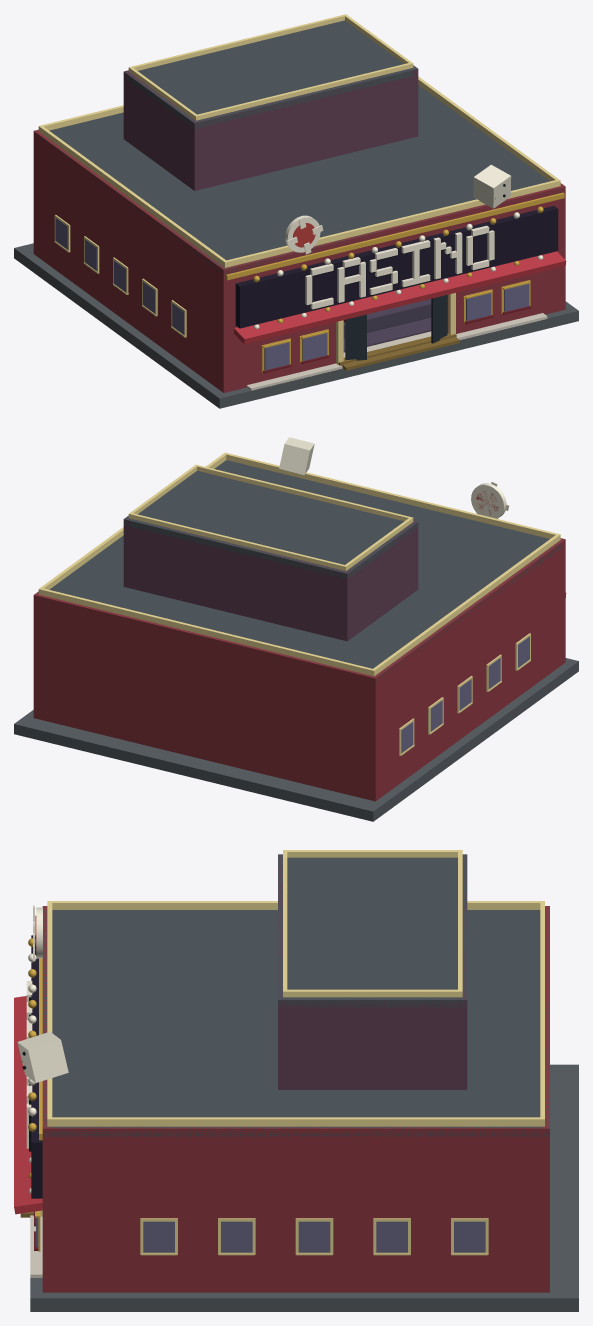
File: casino-building.glb
3 renders of one model, top to bottom at view 1: azimuth 30°, elevation 25°; view 2: azimuth 150°, elevation 25°; view 3: azimuth 270°, elevation 25°, orthographic. The views are drawn at different scales.
Visible parts, largest first — view 1: casino_cutaway_roof, casino_exterior_detail, casino_hull_wall, casino_cutaway_upper, casino_foundation, casino_interior; view 2: casino_hull_wall, casino_cutaway_roof, casino_cutaway_upper, casino_foundation, casino_exterior_detail; view 3: casino_cutaway_roof, casino_hull_wall, casino_foundation, casino_cutaway_upper, casino_exterior_detail.
Part boxes in pixels (left/top/right/bottom): casino_cutaway_roof: left=38, top=14, right=565, bottom=275; casino_exterior_detail: left=54, top=164, right=566, bottom=373; casino_hull_wall: left=33, top=129, right=565, bottom=392; casino_cutaway_upper: left=123, top=25, right=418, bottom=190; casino_foundation: left=14, top=243, right=578, bottom=408; casino_interior: left=343, top=299, right=431, bottom=352; casino_hull_wall: left=33, top=538, right=565, bottom=801; casino_cutaway_roof: left=38, top=452, right=562, bottom=681; casino_cutaway_upper: left=123, top=471, right=418, bottom=641; casino_foundation: left=14, top=658, right=578, bottom=821; casino_exterior_detail: left=279, top=437, right=566, bottom=755; casino_cutaway_roof: left=42, top=850, right=549, bottom=1136; casino_hull_wall: left=42, top=906, right=549, bottom=1292; casino_foundation: left=20, top=1064, right=578, bottom=1311; casino_cutaway_upper: left=278, top=854, right=467, bottom=1089; casino_exterior_detail: left=14, top=905, right=488, bottom=1255.
Size of the model in its own units: 22.8 by 12.47 by 23.28.
